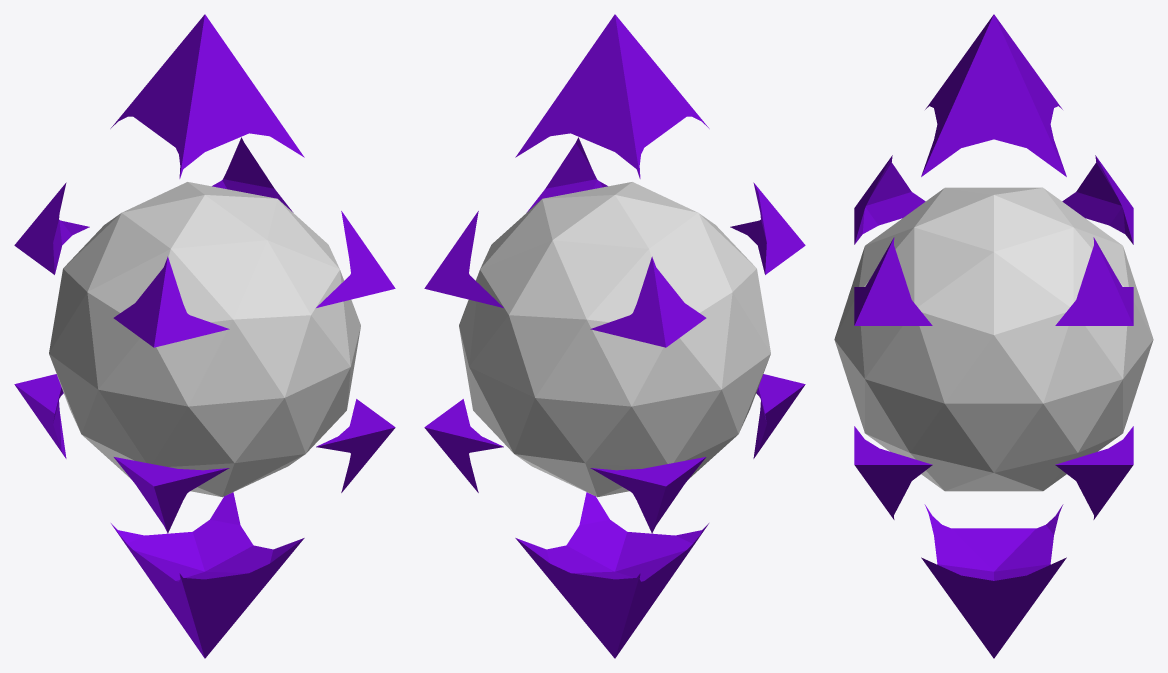
The model's file is sphere with tringales (apply metalic and purple) (1).fbx.
3 views of the same model, side by side, from view 1: azimuth 30°, elevation 25°; view 2: azimuth 150°, elevation 25°; view 3: azimuth 270°, elevation 25° (orthographic).
Parts seen in each view (by area): view 1: shoyos_sphere1, shoyos_sphere1_addon1, shoyos_sphere1_addon2; view 2: shoyos_sphere1, shoyos_sphere1_addon1, shoyos_sphere1_addon2; view 3: shoyos_sphere1, shoyos_sphere1_addon1, shoyos_sphere1_addon2.
Boxes of the visible parts, x1=… form: shoyos_sphere1: x1=49, y1=182, x2=360, y2=497; shoyos_sphere1_addon1: x1=14, y1=14, x2=395, y2=347; shoyos_sphere1_addon2: x1=14, y1=374, x2=395, y2=658; shoyos_sphere1: x1=459, y1=182, x2=770, y2=497; shoyos_sphere1_addon1: x1=424, y1=14, x2=805, y2=347; shoyos_sphere1_addon2: x1=424, y1=374, x2=805, y2=658; shoyos_sphere1: x1=834, y1=187, x2=1153, y2=491; shoyos_sphere1_addon1: x1=854, y1=14, x2=1133, y2=325; shoyos_sphere1_addon2: x1=854, y1=426, x2=1133, y2=658.
Size of the model in its own units: 38.04 by 89.18 by 40.
